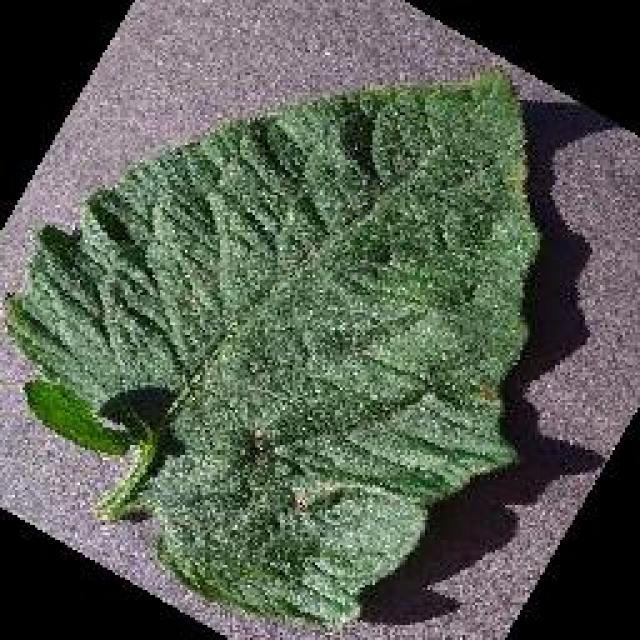Tomato___Target_Spot: (8, 68, 538, 622)
